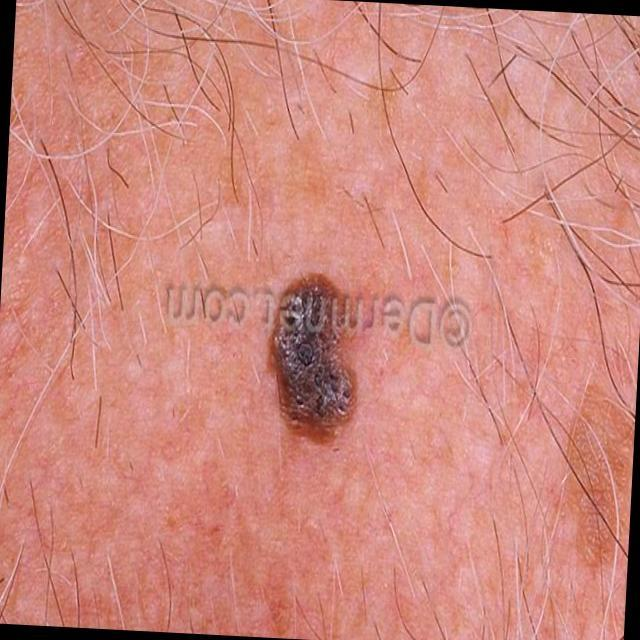Eczema: (252, 275, 384, 441)
